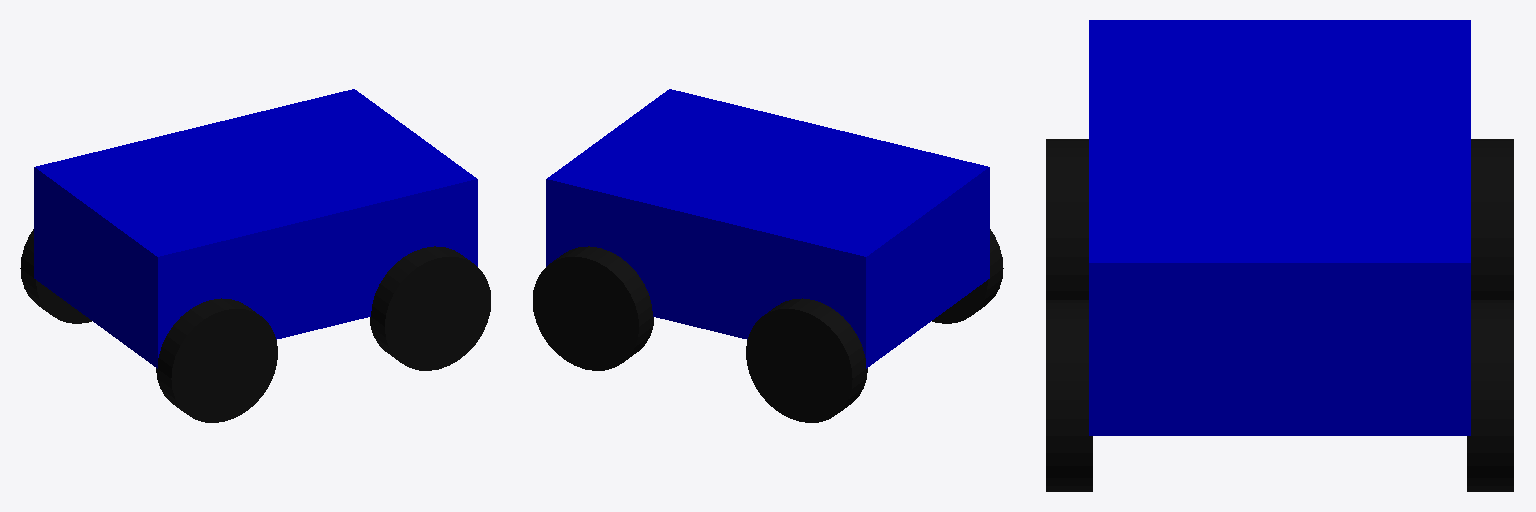
The robot description file, URDF, robot "mi_rover":
<?xml version="1.0"?>
<robot name="mi_rover">

  <material name="azul"><color rgba="0.0 0.0 0.8 1.0"/></material>
  <material name="negro"><color rgba="0.1 0.1 0.1 1.0"/></material>

  <link name="base_link">
    <visual>
      <geometry><box size="0.6 0.4 0.2"/></geometry>
      <material name="azul"/>
    </visual>
    <collision>
      <geometry><box size="0.6 0.4 0.2"/></geometry>
    </collision>
    <inertial>
      <mass value="5.0"/>
      <inertia ixx="0.083" ixy="0.0" ixz="0.0" iyy="0.166" iyz="0.0" izz="0.216"/>
    </inertial>
  </link>

  <link name="rueda_delantera_derecha">
    <visual>
      <geometry><cylinder radius="0.1" length="0.05"/></geometry>
      <material name="negro"/>
    </visual>
    <collision>
      <geometry><cylinder radius="0.1" length="0.05"/></geometry>
    </collision>
    <inertial>
      <mass value="1.0"/>
      <inertia ixx="0.0027" ixy="0.0" ixz="0.0" iyy="0.0027" iyz="0.0" izz="0.005"/>
    </inertial>
  </link>
  <joint name="union_rueda_delantera_derecha" type="continuous">
    <parent link="base_link"/>
    <child link="rueda_delantera_derecha"/>
    <origin xyz="0.2 -0.22 -0.1" rpy="1.5708 0 0"/>
    <axis xyz="0 0 1"/>
  </joint>

  <link name="rueda_delantera_izquierda">
    <visual>
      <geometry><cylinder radius="0.1" length="0.05"/></geometry>
      <material name="negro"/>
    </visual>
    <collision>
      <geometry><cylinder radius="0.1" length="0.05"/></geometry>
    </collision>
    <inertial>
      <mass value="1.0"/>
      <inertia ixx="0.0027" ixy="0.0" ixz="0.0" iyy="0.0027" iyz="0.0" izz="0.005"/>
    </inertial>
  </link>
  <joint name="union_rueda_delantera_izquierda" type="continuous">
    <parent link="base_link"/>
    <child link="rueda_delantera_izquierda"/>
    <origin xyz="0.2 0.22 -0.1" rpy="1.5708 0 0"/>
    <axis xyz="0 0 1"/>
  </joint>

  <link name="rueda_trasera_derecha">
    <visual>
      <geometry><cylinder radius="0.1" length="0.05"/></geometry>
      <material name="negro"/>
    </visual>
    <collision>
      <geometry><cylinder radius="0.1" length="0.05"/></geometry>
    </collision>
    <inertial>
      <mass value="1.0"/>
      <inertia ixx="0.0027" ixy="0.0" ixz="0.0" iyy="0.0027" iyz="0.0" izz="0.005"/>
    </inertial>
  </link>
  <joint name="union_rueda_trasera_derecha" type="continuous">
    <parent link="base_link"/>
    <child link="rueda_trasera_derecha"/>
    <origin xyz="-0.2 -0.22 -0.1" rpy="1.5708 0 0"/>
    <axis xyz="0 0 1"/>
  </joint>

  <link name="rueda_trasera_izquierda">
    <visual>
      <geometry><cylinder radius="0.1" length="0.05"/></geometry>
      <material name="negro"/>
    </visual>
    <collision>
      <geometry><cylinder radius="0.1" length="0.05"/></geometry>
    </collision>
    <inertial>
      <mass value="1.0"/>
      <inertia ixx="0.0027" ixy="0.0" ixz="0.0" iyy="0.0027" iyz="0.0" izz="0.005"/>
    </inertial>
  </link>
  <joint name="union_rueda_trasera_izquierda" type="continuous">
    <parent link="base_link"/>
    <child link="rueda_trasera_izquierda"/>
    <origin xyz="-0.2 0.22 -0.1" rpy="1.5708 0 0"/>
    <axis xyz="0 0 1"/>
  </joint>

  <gazebo>
    <plugin filename="gz-sim-apply-joint-force-system" name="gz::sim::systems::ApplyJointForce">
      <joint_name>union_rueda_delantera_derecha</joint_name>
    </plugin>
    
    <plugin filename="gz-sim-apply-joint-force-system" name="gz::sim::systems::ApplyJointForce">
      <joint_name>union_rueda_delantera_izquierda</joint_name>
    </plugin>
    
    <plugin filename="gz-sim-apply-joint-force-system" name="gz::sim::systems::ApplyJointForce">
      <joint_name>union_rueda_trasera_derecha</joint_name>
    </plugin>
    
    <plugin filename="gz-sim-apply-joint-force-system" name="gz::sim::systems::ApplyJointForce">
      <joint_name>union_rueda_trasera_izquierda</joint_name>
    </plugin>
	<plugin filename="gz-sim-odometry-publisher-system" name="gz::sim::systems::OdometryPublisher">
      <odom_frame>odom</odom_frame>
      <robot_base_frame>base_link</robot_base_frame>
      <odom_publish_frequency>100</odom_publish_frequency>
    </plugin>

  </gazebo>

</robot>

--- Facts derived from the render (not from the file) ---
The picture shows the robot from 3 angles, left to right: view 1: azimuth 30°, elevation 25°; view 2: azimuth 150°, elevation 25°; view 3: azimuth 270°, elevation 25°; orthographic projection.
Robot: mi_rover — 5 links, 4 joints (4 continuous); root link base_link; default pose: every joint at zero.
Visible links, largest first — view 1: base_link, rueda_trasera_derecha, rueda_delantera_derecha, rueda_trasera_izquierda; view 2: base_link, rueda_trasera_izquierda, rueda_delantera_izquierda, rueda_trasera_derecha; view 3: base_link, rueda_delantera_derecha, rueda_delantera_izquierda, rueda_trasera_derecha, rueda_trasera_izquierda.
Boxes of the visible links, x1,y1,x2,y2 form: base_link: (34,89,477,368); rueda_trasera_derecha: (156,298,277,422); rueda_delantera_derecha: (370,246,490,370); rueda_trasera_izquierda: (20,229,91,323); base_link: (546,89,989,368); rueda_trasera_izquierda: (746,298,867,422); rueda_delantera_izquierda: (533,246,653,370); rueda_trasera_derecha: (932,229,1003,323); base_link: (1089,20,1470,435); rueda_delantera_derecha: (1046,300,1092,491); rueda_delantera_izquierda: (1467,300,1513,491); rueda_trasera_derecha: (1046,139,1088,299); rueda_trasera_izquierda: (1471,139,1513,299).
Size in the robot's own frame: 0.6 by 0.49 by 0.3 metres.
Geometry: primitives only (box / cylinder / sphere), no mesh files.
